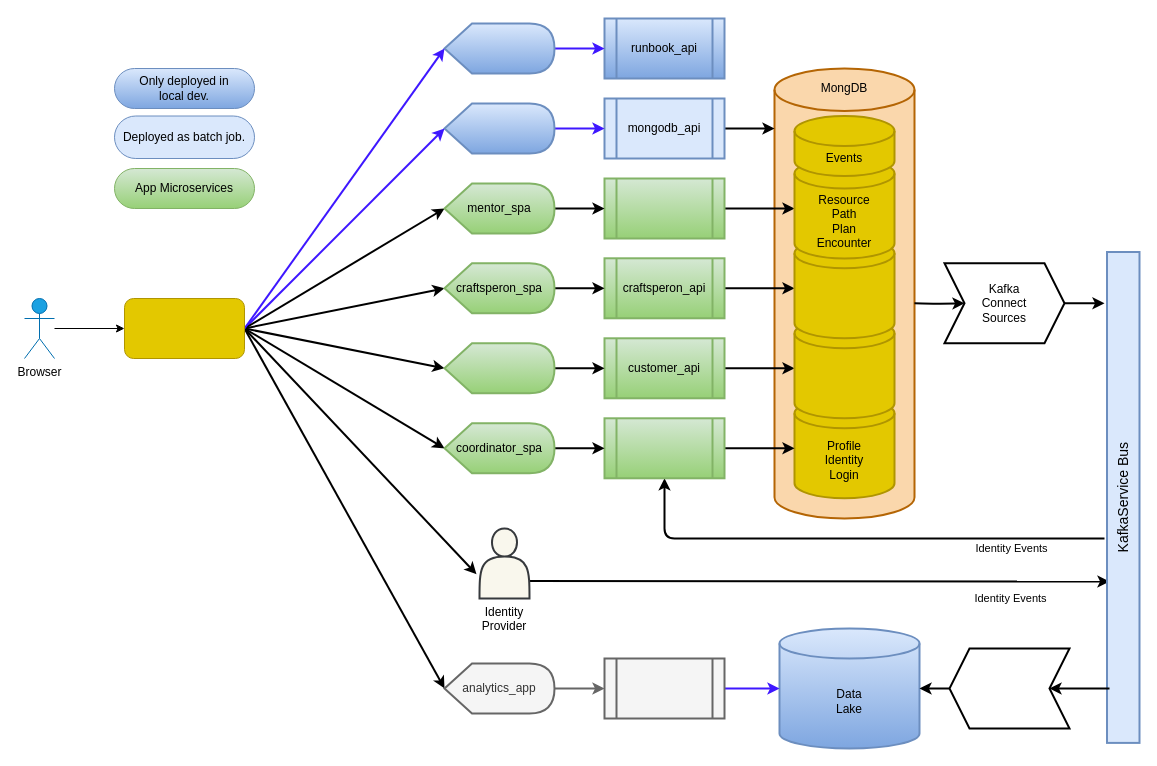
Some shapes in this 1157 by 766 pixel diagram are drawn without their labels. Here are the shapes that lost their labels. From the top down, the box of each, then its label:
(443, 22, 555, 74): Runbook SPA
(443, 102, 555, 154): Configurator SPA
(603, 177, 725, 239): mentor_api
(793, 237, 895, 339): Journey Rating Note
(124, 298, 244, 358): API Gateway
(443, 342, 555, 394): customer_spa
(793, 317, 895, 419): Customer Subscription Dashboard
(603, 417, 725, 479): coordinator_api
(603, 657, 725, 719): analytics_api
(948, 647, 1070, 729): Kafka Connect Sinks
